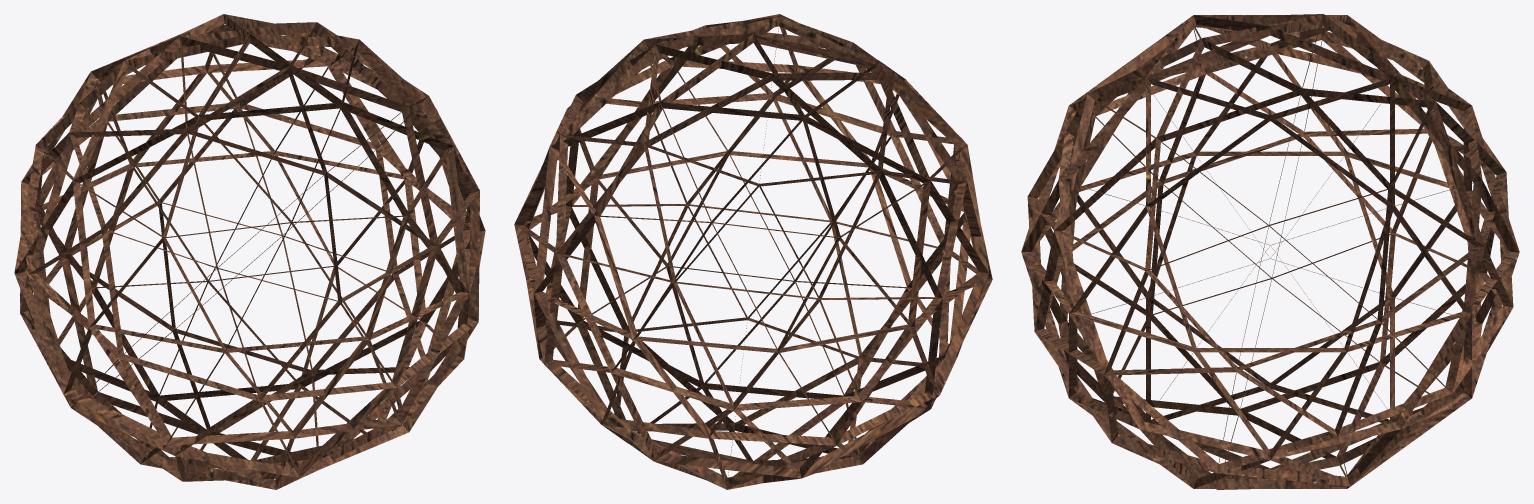
The model's file is Tumbil.glb.
The picture shows the model from 3 angles, left to right: view 1: azimuth 30°, elevation 25°; view 2: azimuth 150°, elevation 25°; view 3: azimuth 270°, elevation 25°; orthographic projection. The views are drawn at different scales.
Parts seen in each view (by area): view 1: Icosphere.001; view 2: Icosphere.001; view 3: Icosphere.001.
Boxes of the visible parts, x1,y1,x2,y2 form: Icosphere.001: (14,14,485,489); Icosphere.001: (514,14,992,489); Icosphere.001: (1021,14,1519,489).
Bounding box in the file's own units: 2.06 × 2.09 × 2.09.
Materials: 1 (1 with a texture image).
